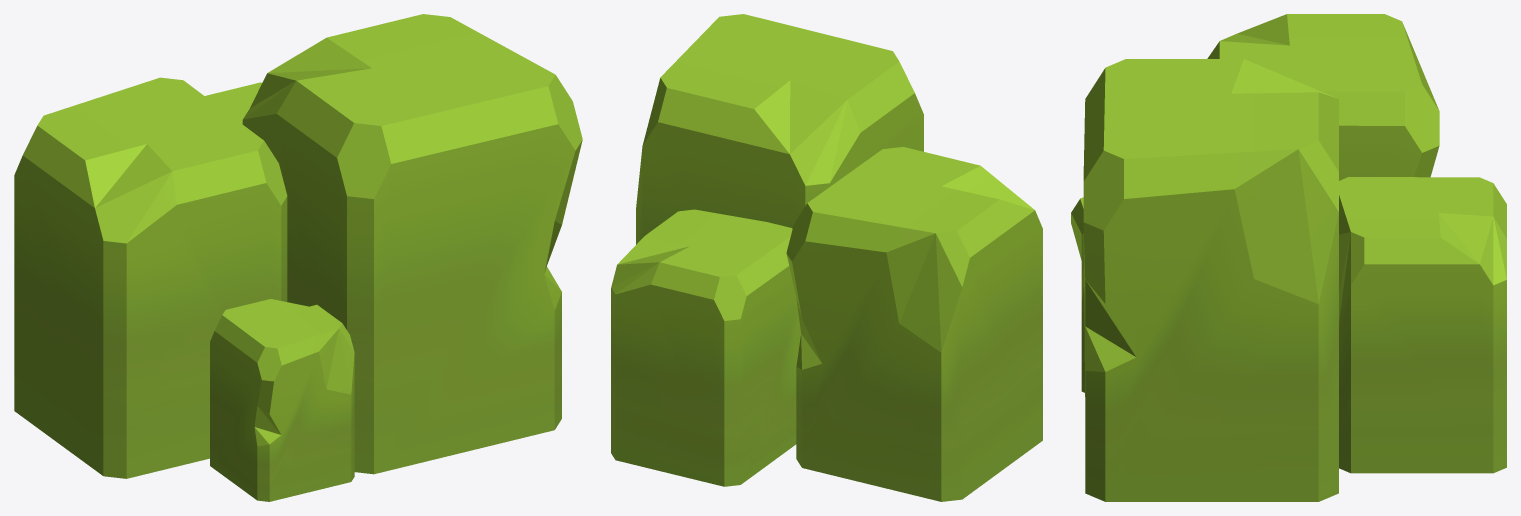
Rendered from RockS_5.obj.
3 views of the same model, side by side, from view 1: azimuth 30°, elevation 25°; view 2: azimuth 150°, elevation 25°; view 3: azimuth 270°, elevation 25° (orthographic). The views are drawn at different scales.
Visible parts, largest first — view 1: Cube.088; view 2: Cube.088; view 3: Cube.088.
Boxes of the visible parts, x1,y1,x2,y2 form: Cube.088: (14,14,582,501); Cube.088: (611,14,1042,501); Cube.088: (1071,14,1506,501).
Bounding box in the file's own units: 0.9861 × 0.7519 × 0.8616.
